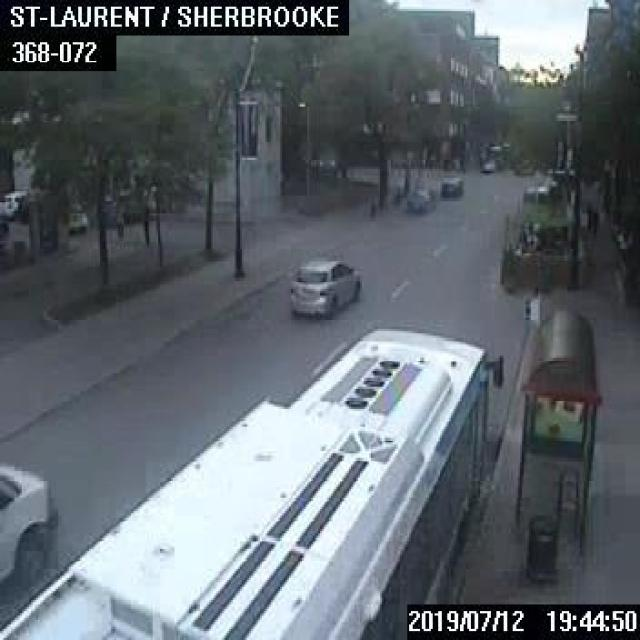bus: (0, 322, 502, 638)
vehicle: (0, 460, 49, 584), (285, 256, 360, 316), (0, 184, 25, 219), (522, 172, 552, 199), (64, 200, 86, 234), (406, 187, 433, 209), (438, 176, 462, 196), (480, 158, 495, 171)
